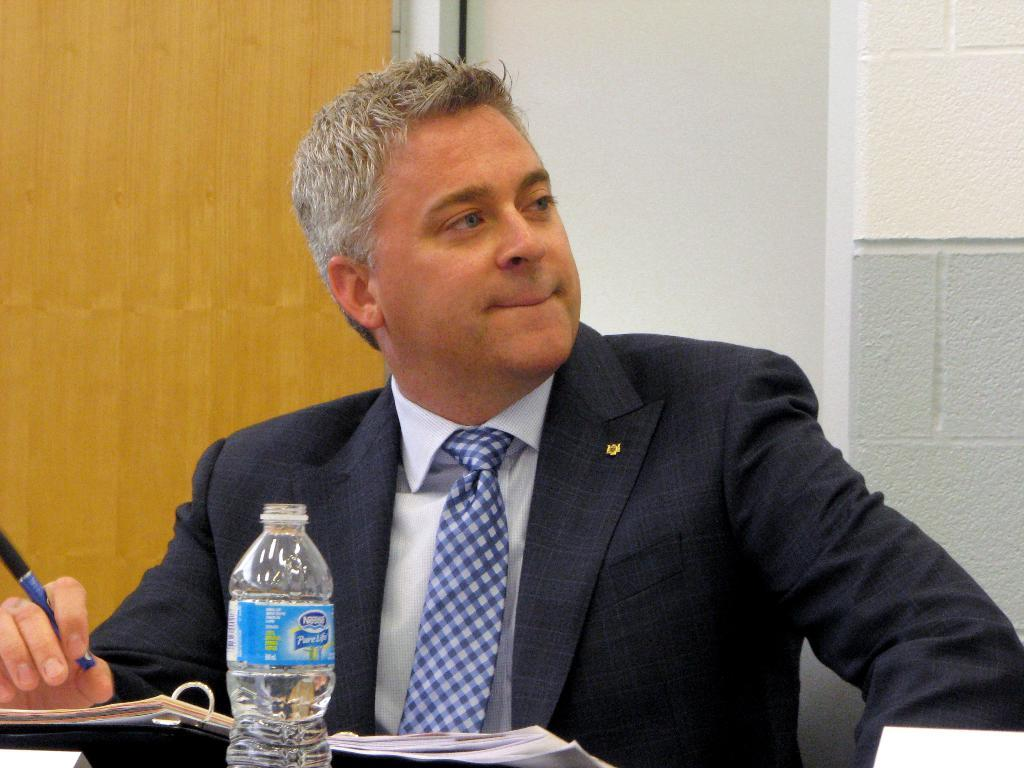pen: (0, 520, 95, 673)
